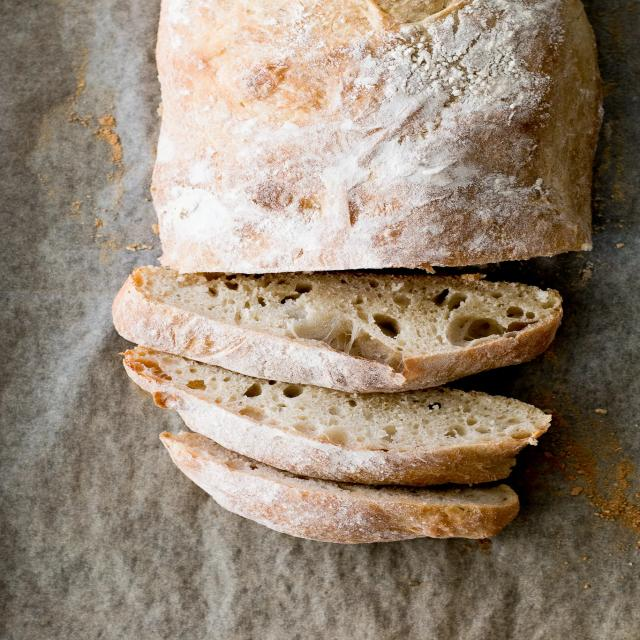Ciabatta: (152, 0, 601, 273)
